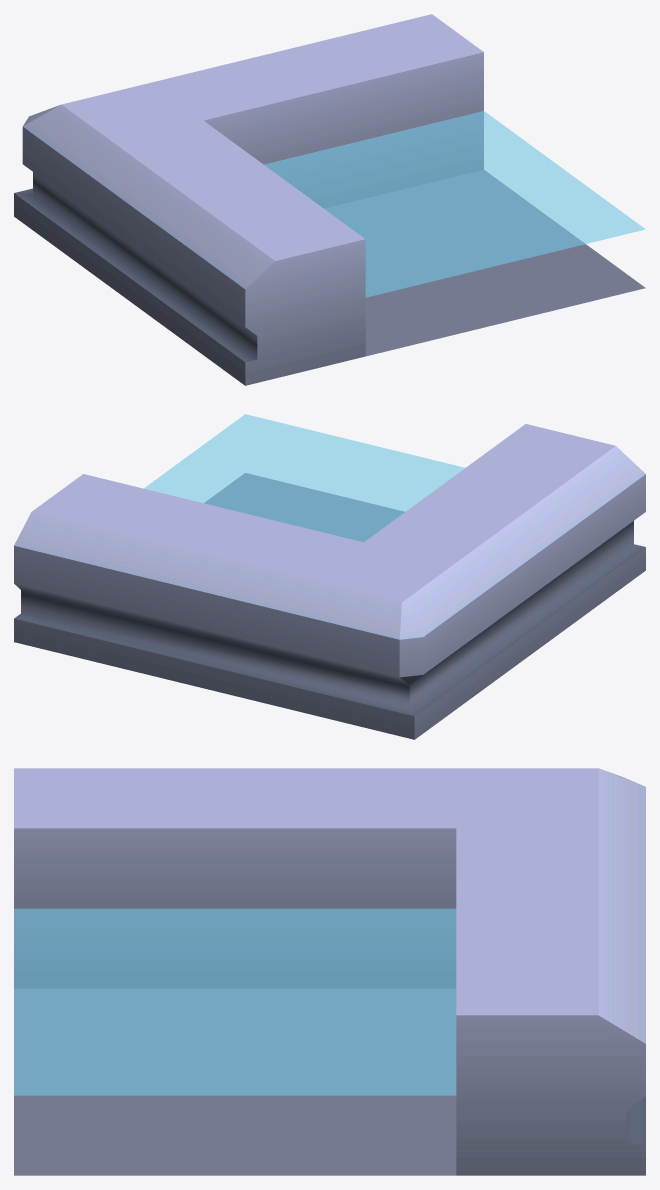
The model's file is fountain-corner.glb.
The picture shows the model from 3 angles, top to bottom: view 1: azimuth 30°, elevation 25°; view 2: azimuth 150°, elevation 25°; view 3: azimuth 270°, elevation 25°; orthographic projection. The views are drawn at different scales.
Visible parts, largest first — view 1: fountain-corner, (_ignore); view 2: fountain-corner, (_ignore); view 3: fountain-corner, (_ignore).
Boxes of the visible parts, x1=… form: fountain-corner: x1=14, y1=14, x2=645, y2=385; (_ignore): x1=264, y1=111, x2=645, y2=297; fountain-corner: x1=14, y1=424, x2=645, y2=739; (_ignore): x1=144, y1=414, x2=464, y2=542; fountain-corner: x1=14, y1=768, x2=645, y2=1175; (_ignore): x1=14, y1=908, x2=456, y2=1095.
Size of the model in its own units: 1 by 0.28 by 1.
Materials: 2 (1 with a texture image).
